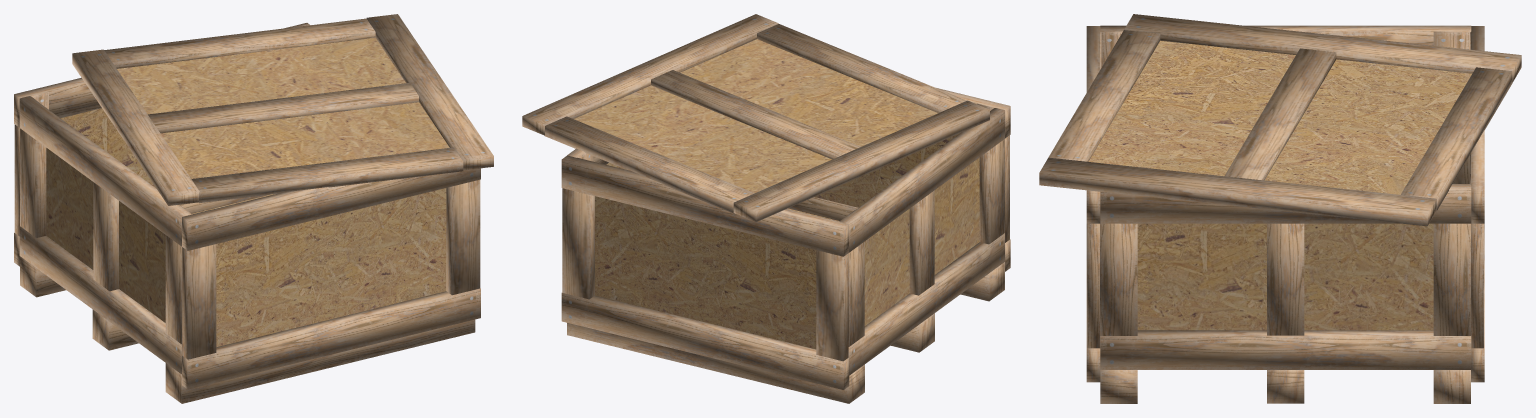
Rendered from crate.fbx.
The picture shows the model from 3 angles, left to right: view 1: azimuth 30°, elevation 25°; view 2: azimuth 150°, elevation 25°; view 3: azimuth 270°, elevation 25°; orthographic projection. The views are drawn at different scales.
Visible parts, largest first — view 1: Crate_Small_New_Bottom, Crate_Small_New_Top; view 2: Crate_Small_New_Bottom, Crate_Small_New_Top; view 3: Crate_Small_New_Bottom, Crate_Small_New_Top.
Boxes of the visible parts, <box> form: Crate_Small_New_Bottom: <box>14,23,480,403</box>; Crate_Small_New_Top: <box>72,14,493,205</box>; Crate_Small_New_Bottom: <box>561,88,1010,403</box>; Crate_Small_New_Top: <box>522,14,989,221</box>; Crate_Small_New_Bottom: <box>1086,25,1484,403</box>; Crate_Small_New_Top: <box>1039,14,1521,226</box>.
Bounding box in the file's own units: 93.41 × 49.16 × 94.88.
